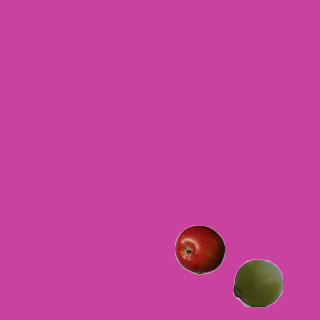Apple Braeburn: (174, 224, 224, 274)
Grape White 4: (232, 257, 282, 307)
